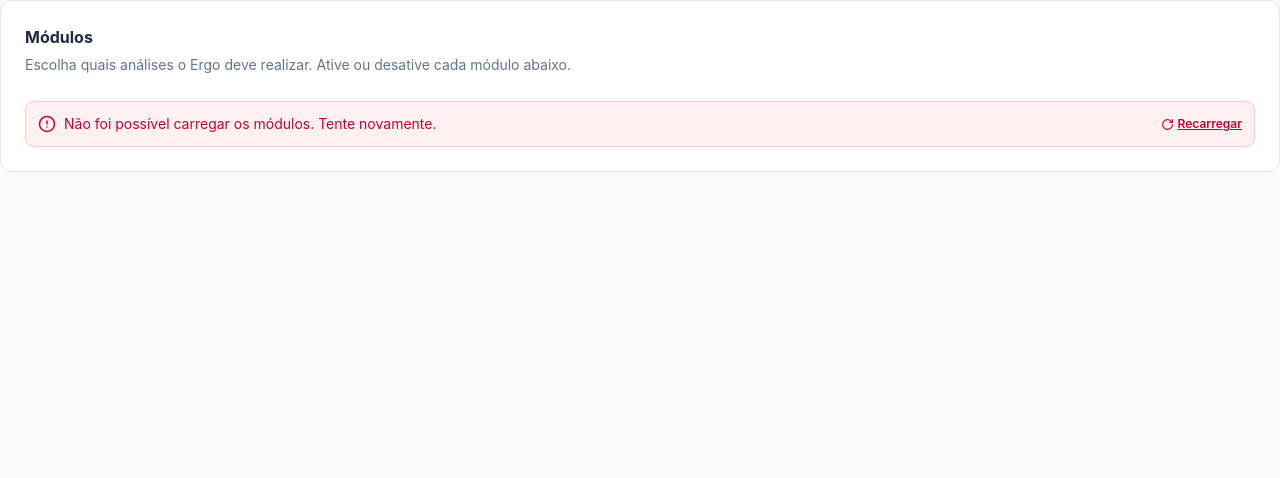
Test: Configurações → Módulos › oferece recarregar quando a leitura falha
The width and height of the screenshot is (1280, 478).
Expected: the message "Não foi possível carregar os módulos. Tente novamente. Recarregar" is shown, x1=25 y1=101 x2=1255 y2=147
Click the button "Recarregar". click: [1201, 124]
box: x1=1161 y1=116 x2=1242 y2=132
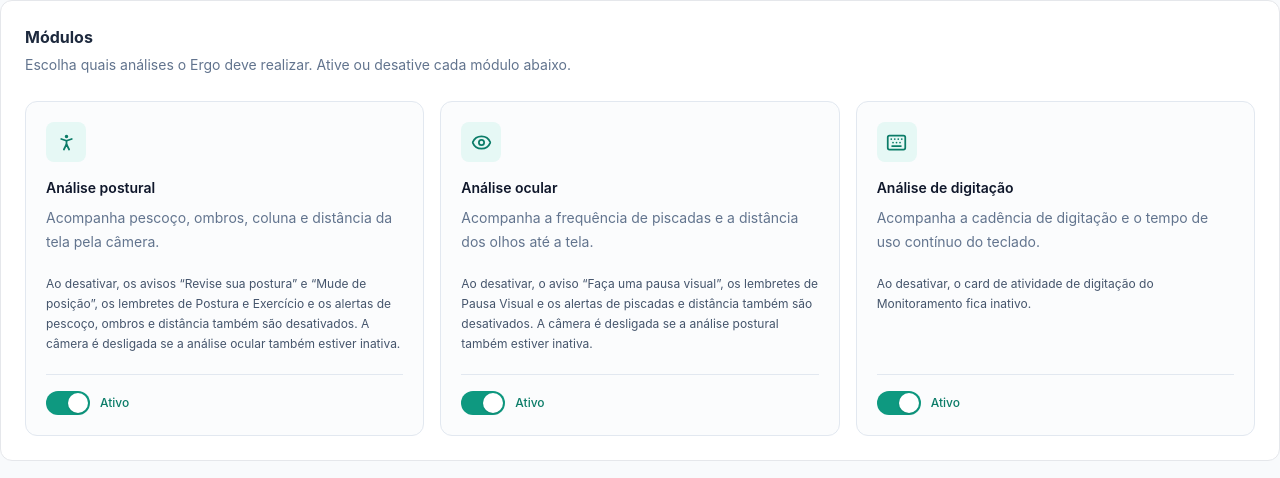
Result: the message "Não foi possível carregar os módulos. Tente novamente. Recarregar" is gone
